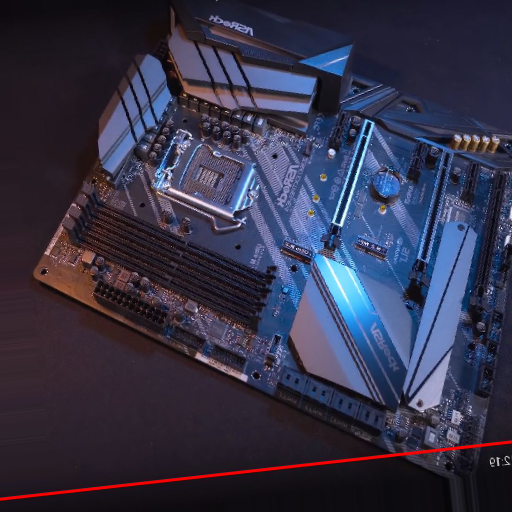CPU: (159, 135, 262, 218)
GPU: (409, 148, 456, 292), (324, 114, 373, 250), (467, 171, 507, 324)
MOTHERBOARD: (37, 15, 512, 476)
RAM: (60, 182, 280, 331)
SSD: (280, 238, 315, 263), (356, 235, 387, 262)
